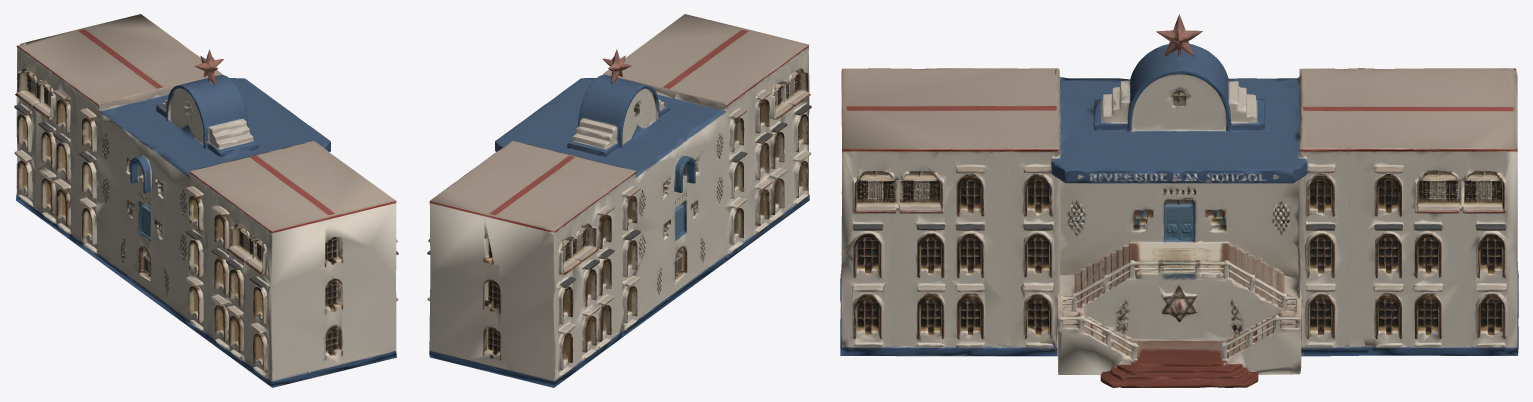
File: School.glb
The picture shows the model from 3 angles, left to right: view 1: azimuth 30°, elevation 25°; view 2: azimuth 150°, elevation 25°; view 3: azimuth 270°, elevation 25°; orthographic projection. The views are drawn at different scales.
Parts seen in each view (by area): view 1: tripo_node_4afcdce9-0ee9-4972-9ced-64c31b521d12; view 2: tripo_node_4afcdce9-0ee9-4972-9ced-64c31b521d12; view 3: tripo_node_4afcdce9-0ee9-4972-9ced-64c31b521d12.
Part boxes in pixels (x1,y1,x2,y2): tripo_node_4afcdce9-0ee9-4972-9ced-64c31b521d12: (14,14,398,387); tripo_node_4afcdce9-0ee9-4972-9ced-64c31b521d12: (427,14,811,387); tripo_node_4afcdce9-0ee9-4972-9ced-64c31b521d12: (840,14,1518,387).
Bounding box in the file's own units: 0.4005 × 0.4839 × 0.9795.
1 material, 1 textured.
